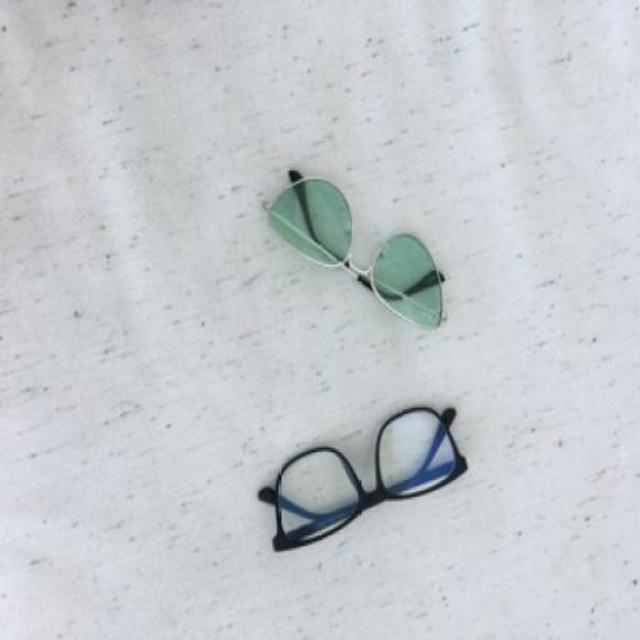glasses: (258, 406, 467, 550)
sunglasses: (261, 172, 445, 332)
